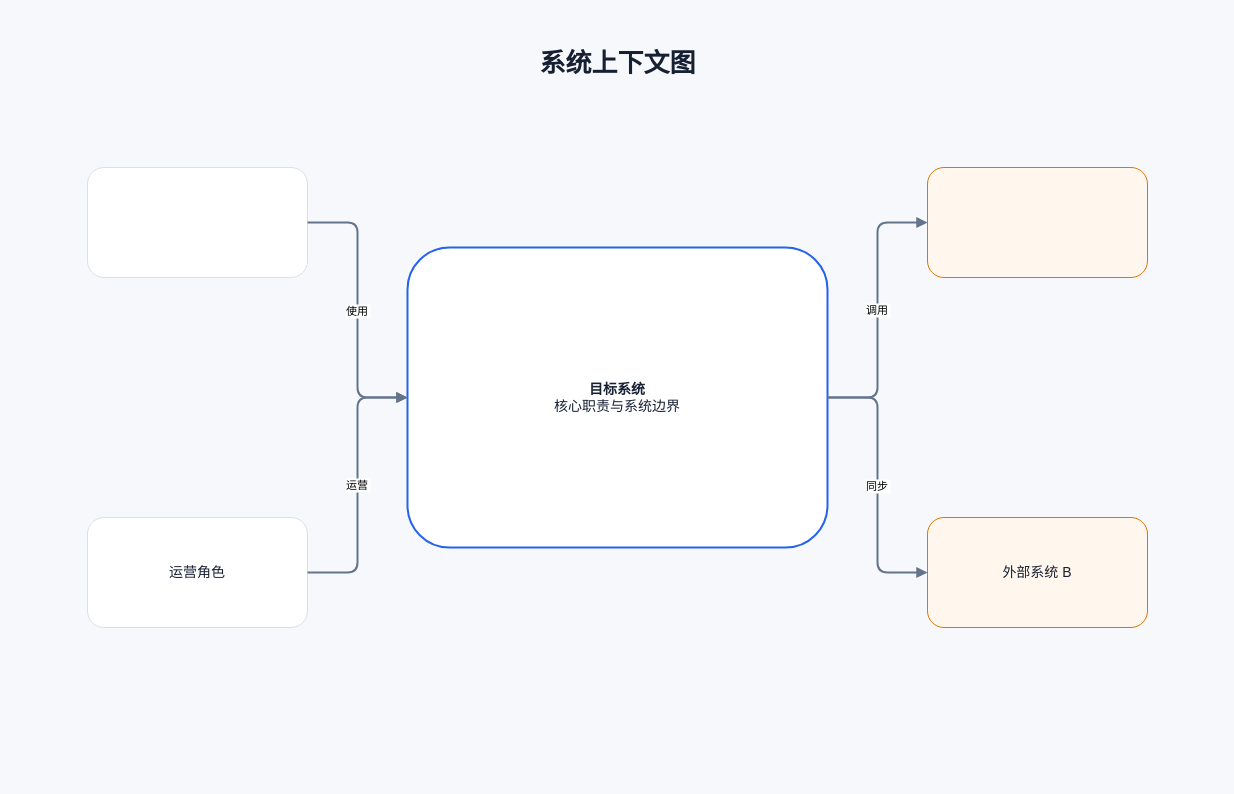
This 1234x794 diagram has some shape labels left out. The centre of each missing label's shape, as x and y in pixels:
"外部系统 A" goes at (1037,222).
"用户角色" goes at (197,222).
